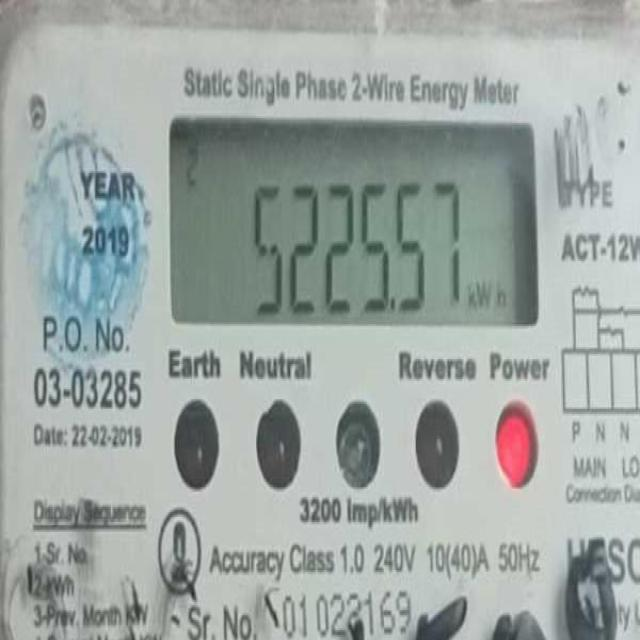2: (320, 175, 357, 319), (287, 176, 321, 320)
5: (244, 174, 288, 321), (392, 174, 433, 318), (358, 173, 390, 322)
7: (427, 169, 469, 318)
Digital meter: (172, 120, 540, 326)
point: (389, 295, 397, 315)
